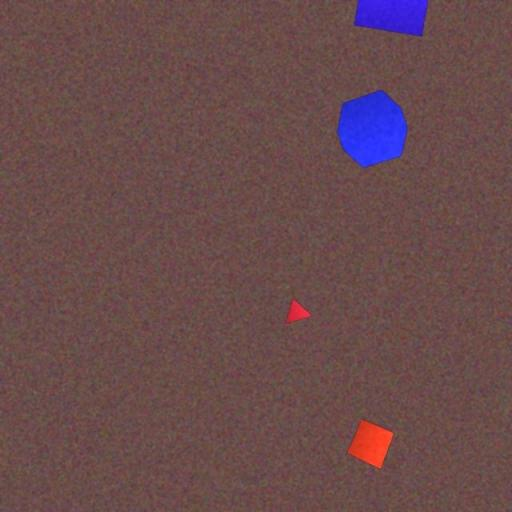BLUE_SQUARE: (353, 0, 435, 38)
RED_SQUARE: (346, 418, 396, 470)
